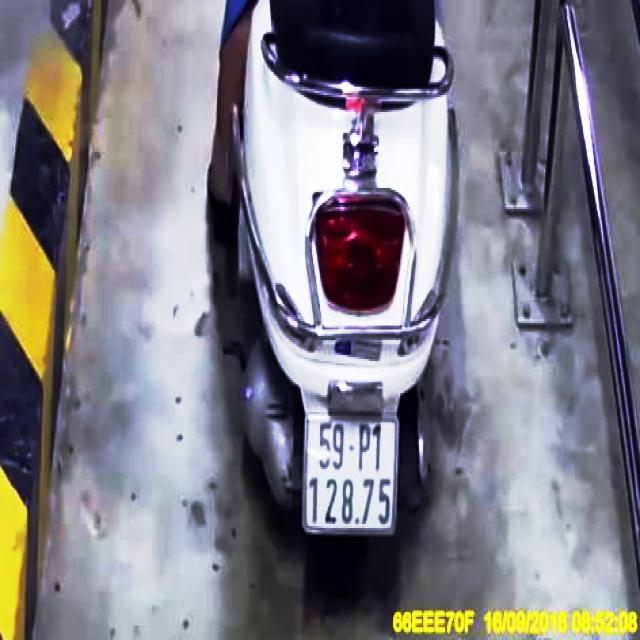license_plate: (307, 413, 402, 535)
